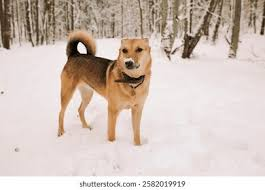dog: (55, 30, 153, 146)
